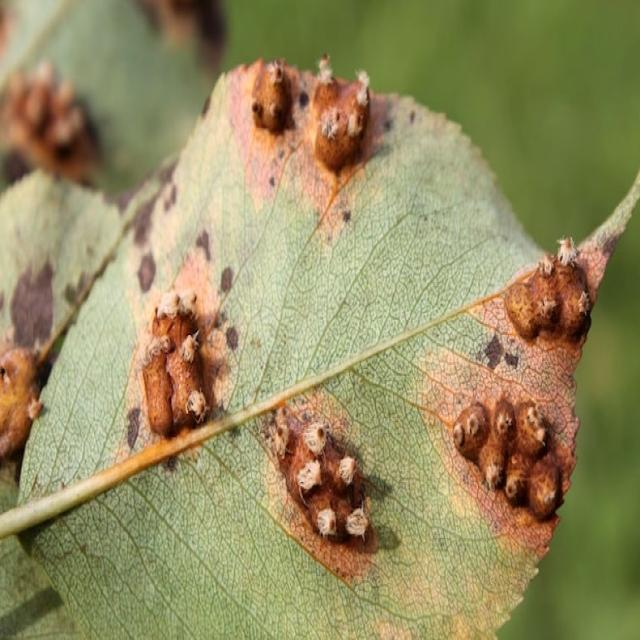leaf_rust: (19, 68, 579, 639)
